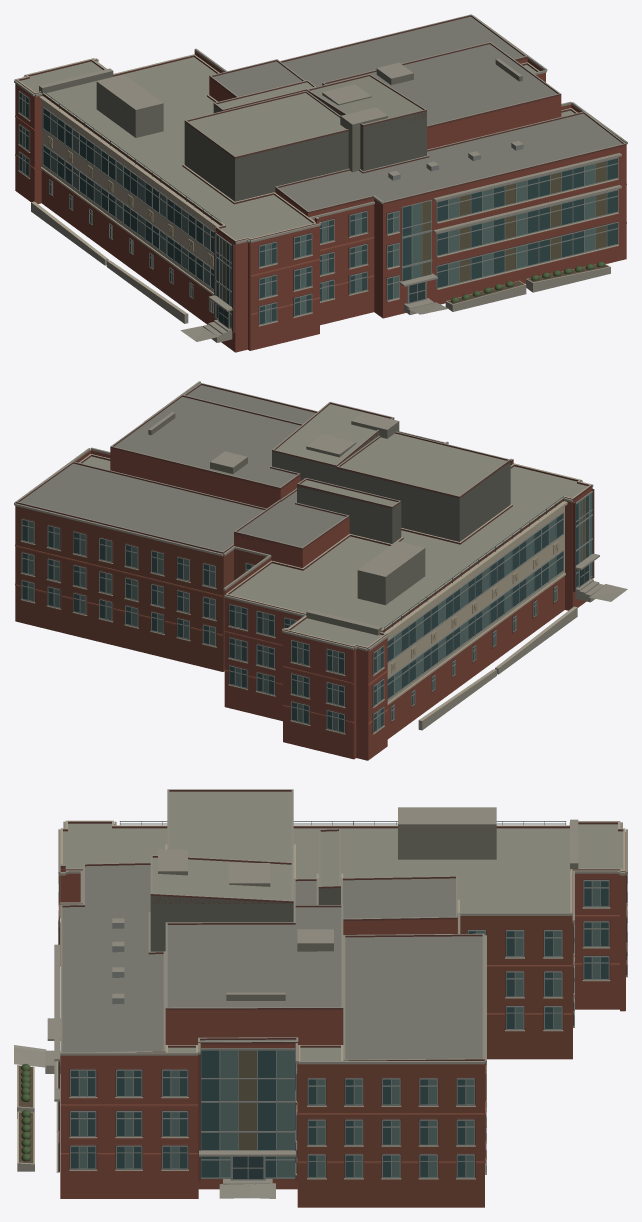
File: site.glb
The picture shows the model from 3 angles, top to bottom: view 1: azimuth 30°, elevation 25°; view 2: azimuth 150°, elevation 25°; view 3: azimuth 270°, elevation 25°; orthographic projection. The views are drawn at different scales.
Visible parts, largest first — view 1: roof-7b7893d6, allen-approaches; view 2: roof-7b7893d6, allen-approaches; view 3: roof-7b7893d6, allen-approaches.
Boxes of the visible parts, <box> form: roof-7b7893d6: <box>14,14,627,352</box>; allen-approaches: <box>31,201,610,342</box>; roof-7b7893d6: <box>14,381,599,760</box>; allen-approaches: <box>418,578,627,730</box>; roof-7b7893d6: <box>47,789,627,1207</box>; allen-approaches: <box>14,1045,275,1198</box>.
Bounding box in the file's own units: 52.55 × 18.6 × 50.37.
